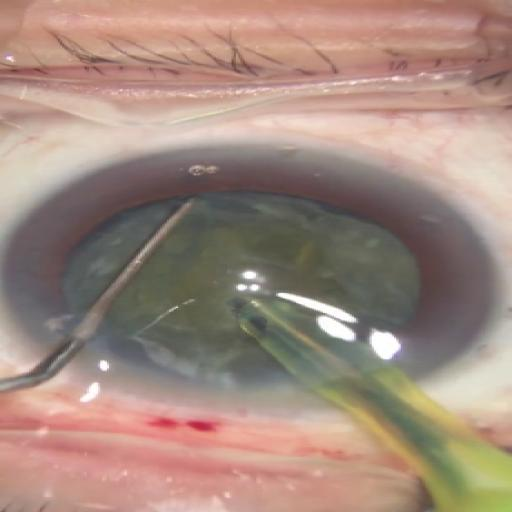catarata: (72, 195, 413, 386)
cornea: (21, 143, 495, 407)
pupil: (58, 193, 420, 396)
